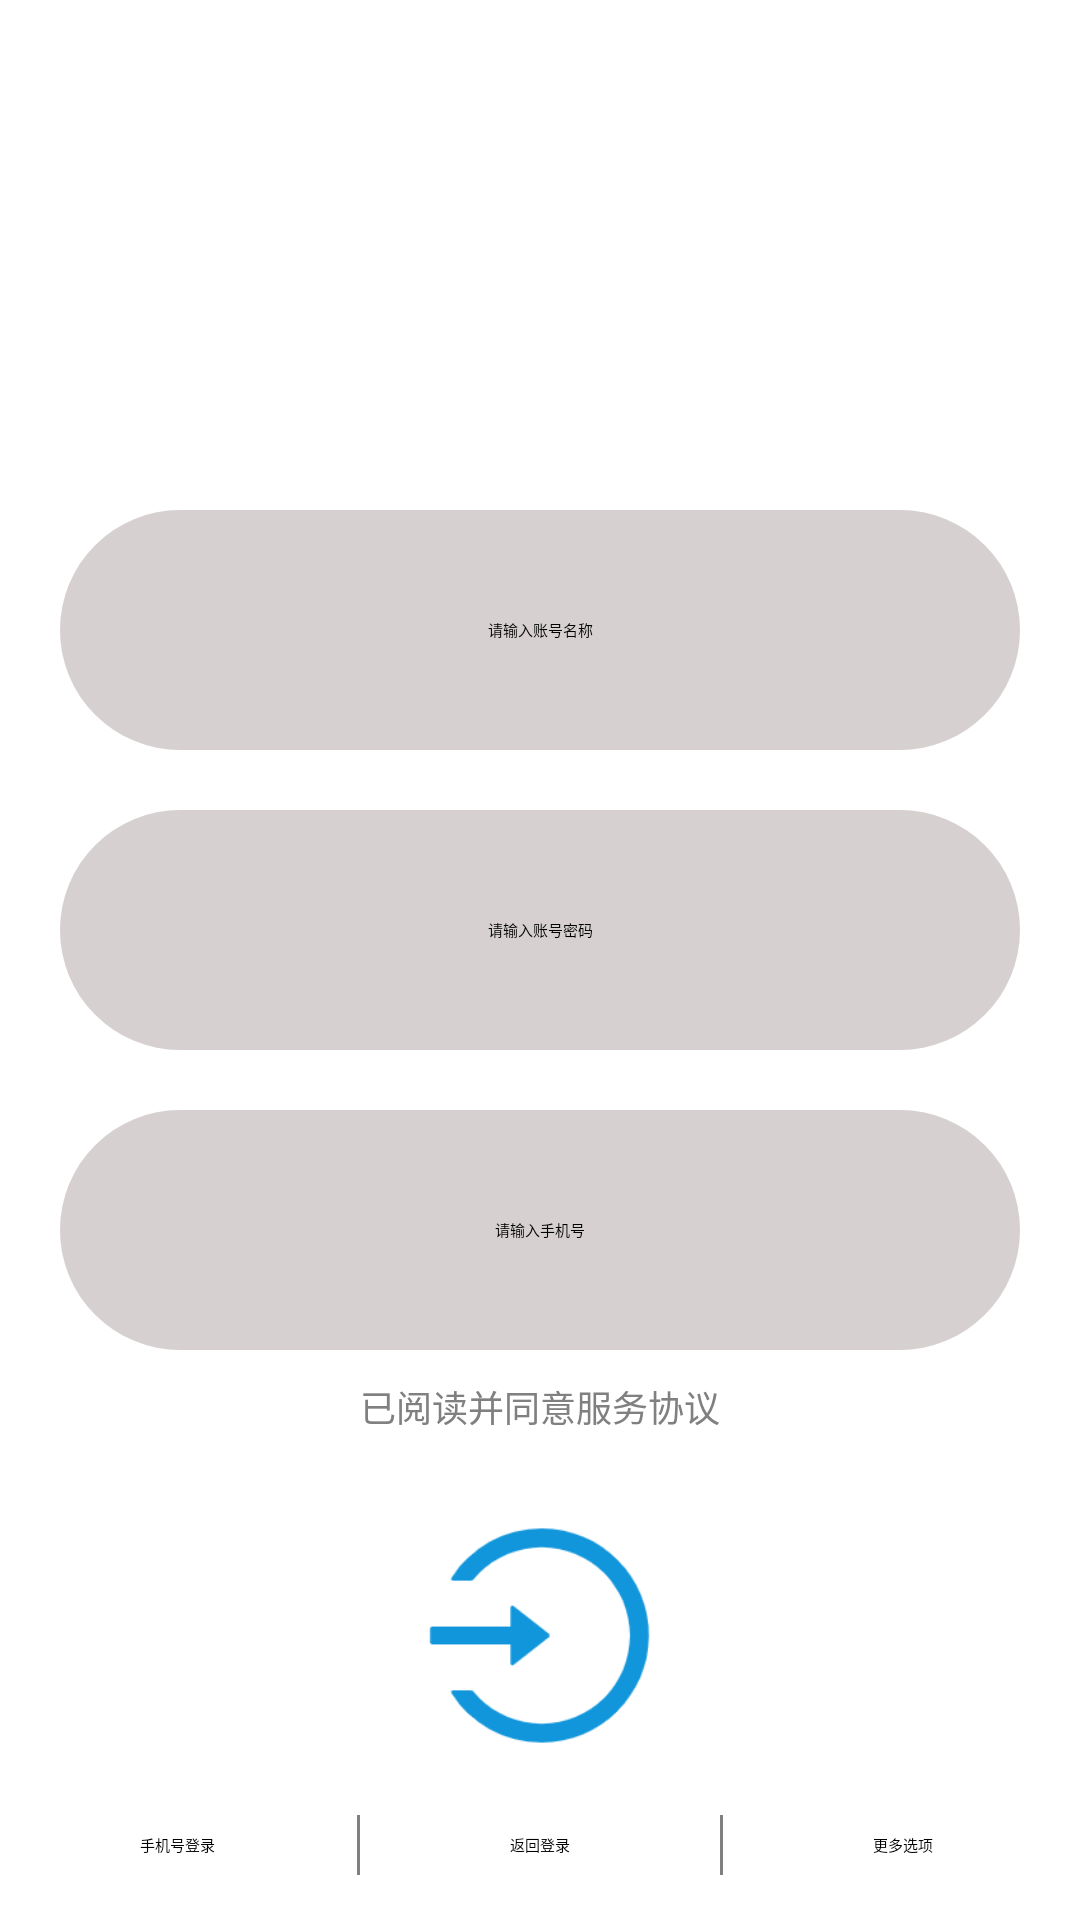

Locate icon controls on the screen. Image size 1080px x 1920px, boxes as (x1, y1, x2, y2).
right: (429, 1528, 650, 1743)
